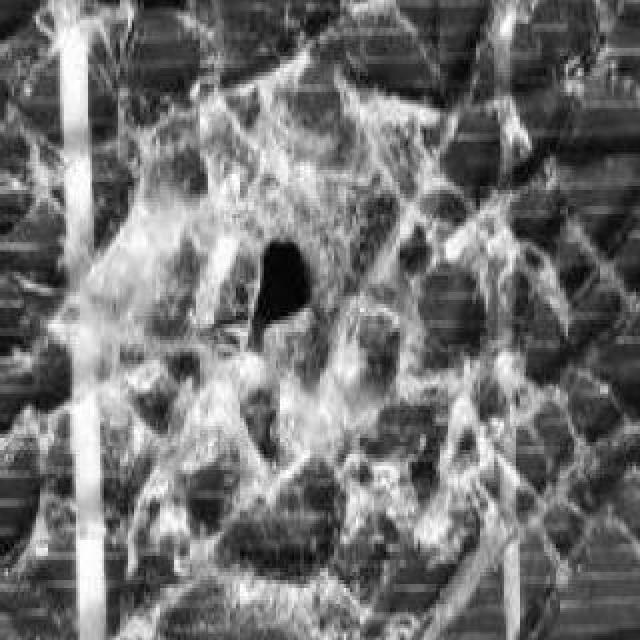Physical-damage: (76, 30, 539, 580)
